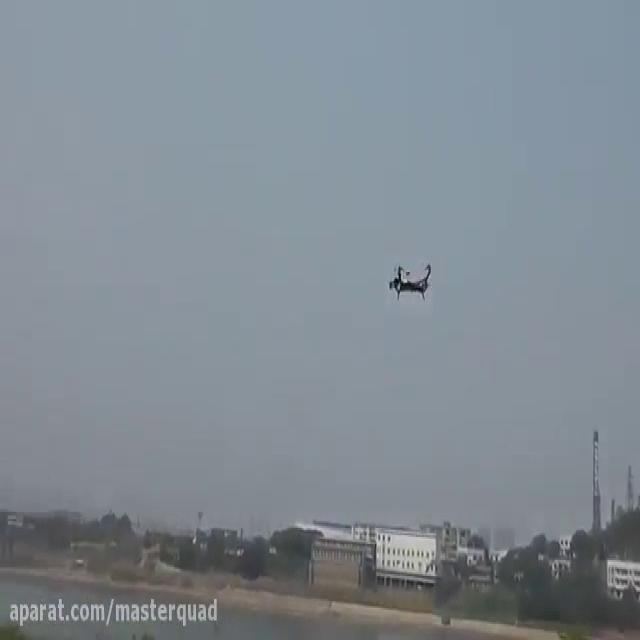drone: (382, 252, 435, 308)
